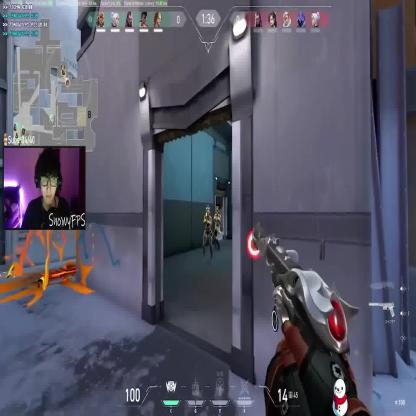enemy: (202, 204, 212, 262), (213, 206, 222, 250)
enemy_head: (205, 206, 210, 217), (215, 206, 220, 215)
